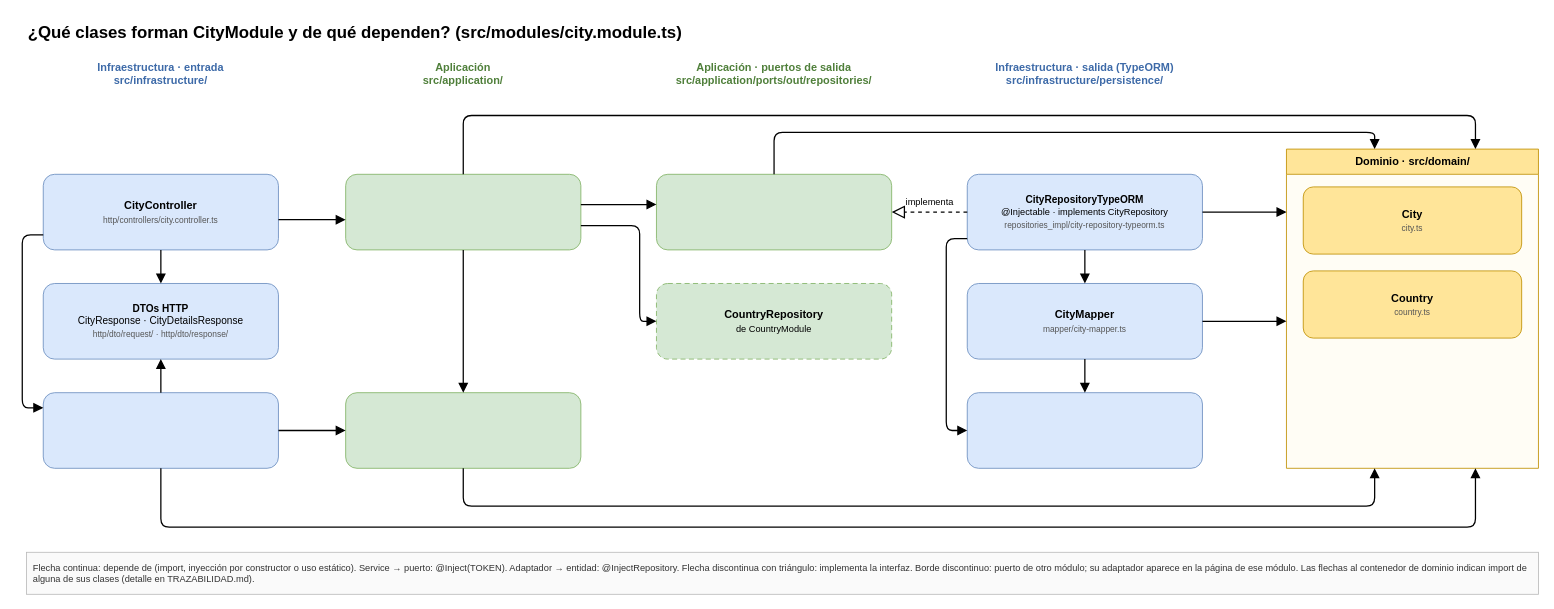
This 1554x609 diagram has some shape labels left out. The shapes that lost their labels are listed below. From the top down, each one's centre as x and y in pixels, then its label:
At point 463,211: "CityService services/city-service.ts".
At point 774,211: "CityRepository token CITY_REPOSITORY city-repository.ts".
At point 160,430: "CityHttpMapper usa CountryHttpMapper http/mappers/city-http.mapper.ts".
At point 463,430: "CityDetails models/city-details.ts".
At point 1084,430: "CityEntity @Entity TypeORM entities/*.entity.ts".
